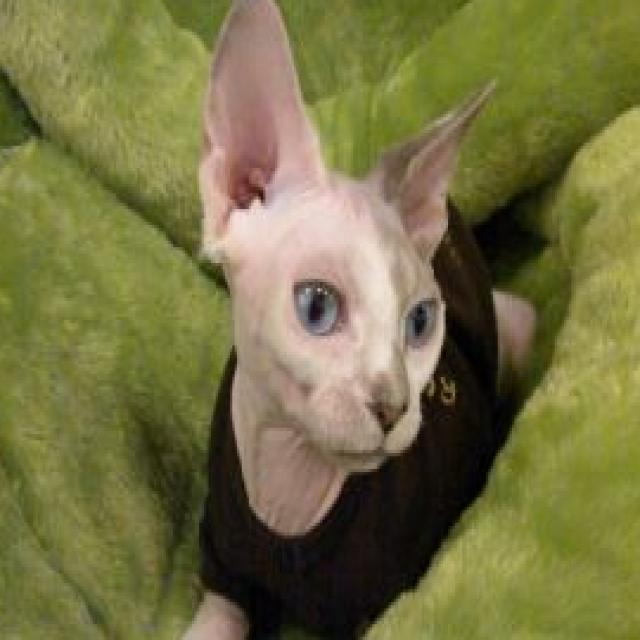Sphynx: (152, 0, 536, 640)
